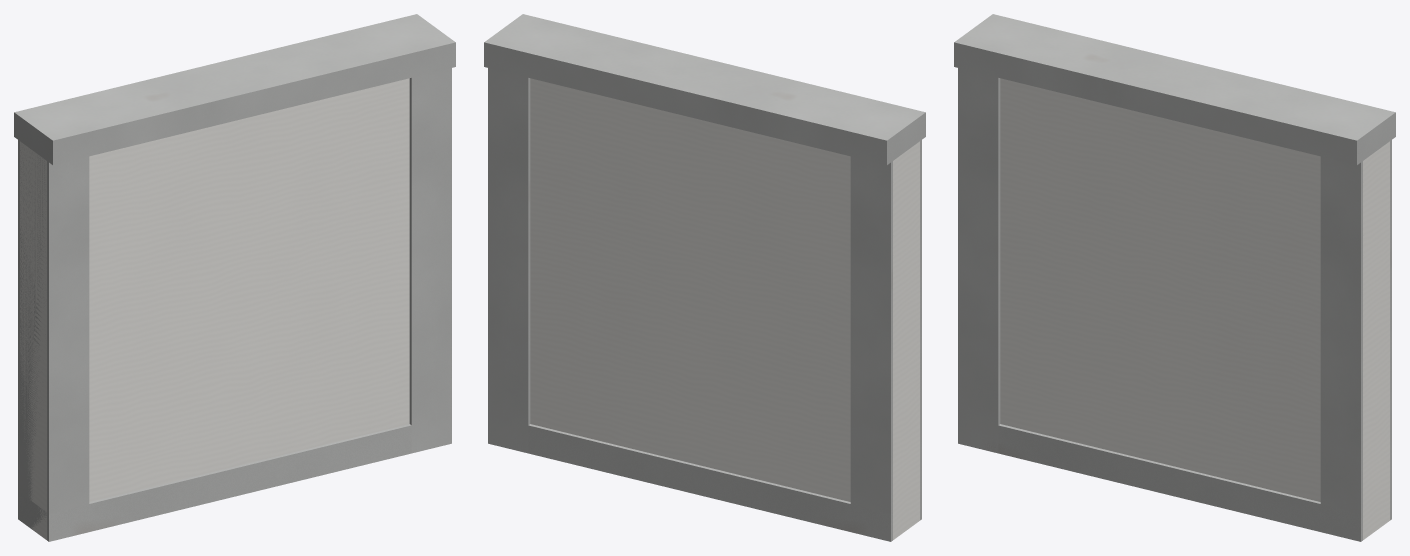
File: blocker.gltf
The picture shows the model from 3 angles, left to right: view 1: azimuth 30°, elevation 25°; view 2: azimuth 150°, elevation 25°; view 3: azimuth 330°, elevation 25°; orthographic projection.
Parts seen in each view (by area): view 1: jx_blocker; view 2: jx_blocker; view 3: jx_blocker.
Boxes of the visible parts, x1,y1,x2,y2 form: jx_blocker: [14, 14, 455, 541]; jx_blocker: [484, 14, 925, 541]; jx_blocker: [954, 14, 1395, 541].
Bounding box in the file's own units: 1.2 × 1.15 × 0.2.
2 materials, 2 textured.
